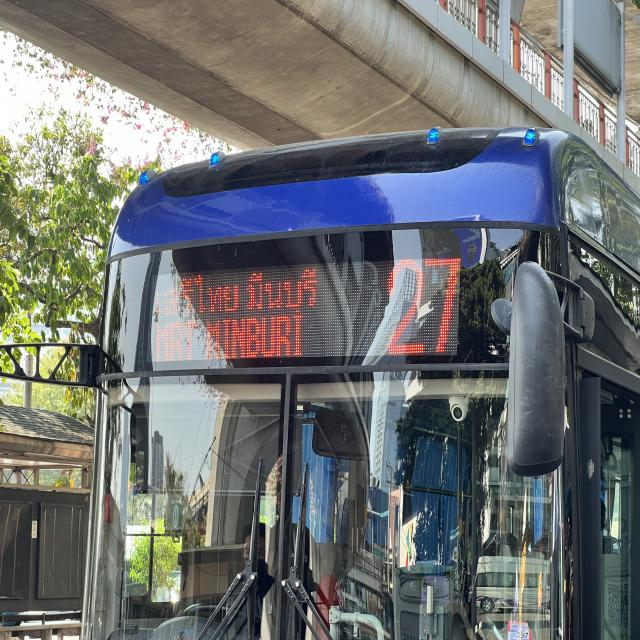Bus-Line-Number: (380, 245, 466, 365)
Destination-Sign-Normal: (144, 256, 326, 371)
TSB-Bus: (78, 127, 640, 640)
